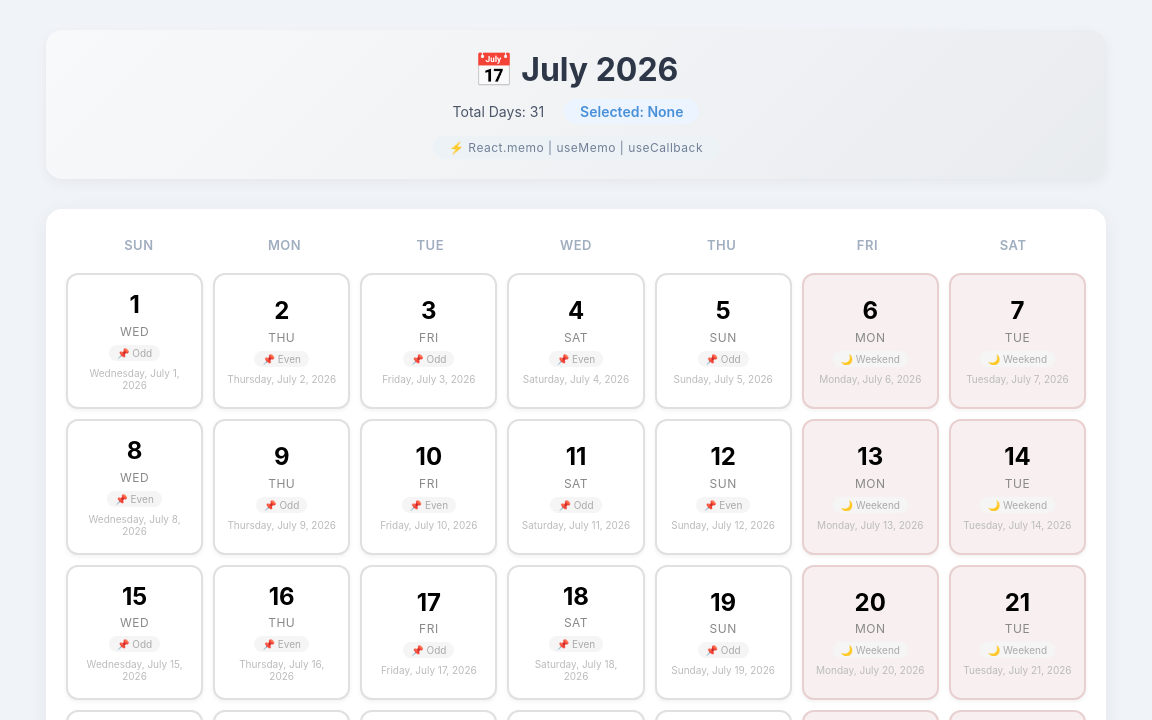
Test: Calendar Component Tests › ✅ Clear button clears selection
The image size is (1152, 720).
# Select a day
Click the button with test id "day-10": (429,487) [360,419,497,555]
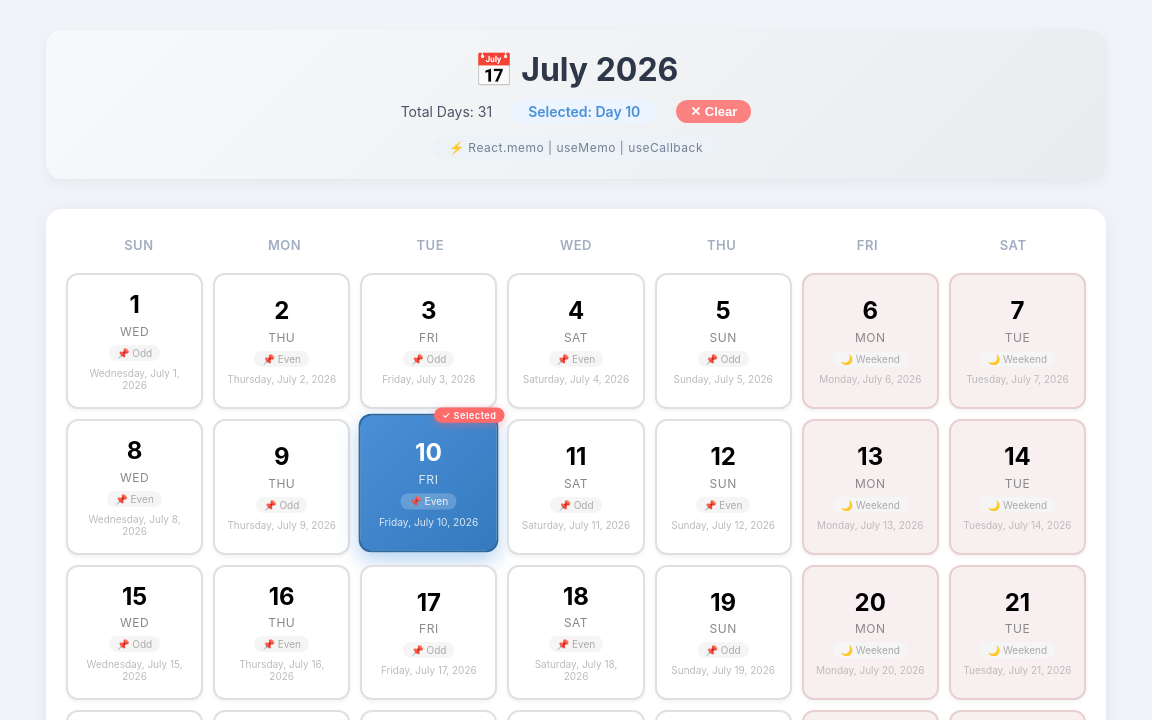
expect the text "Selected: Day 10" is shown: met, box [512,99,656,124]
# Click clear button
Click the button with aria-label "Clear selection": (714,112) [676,100,751,123]
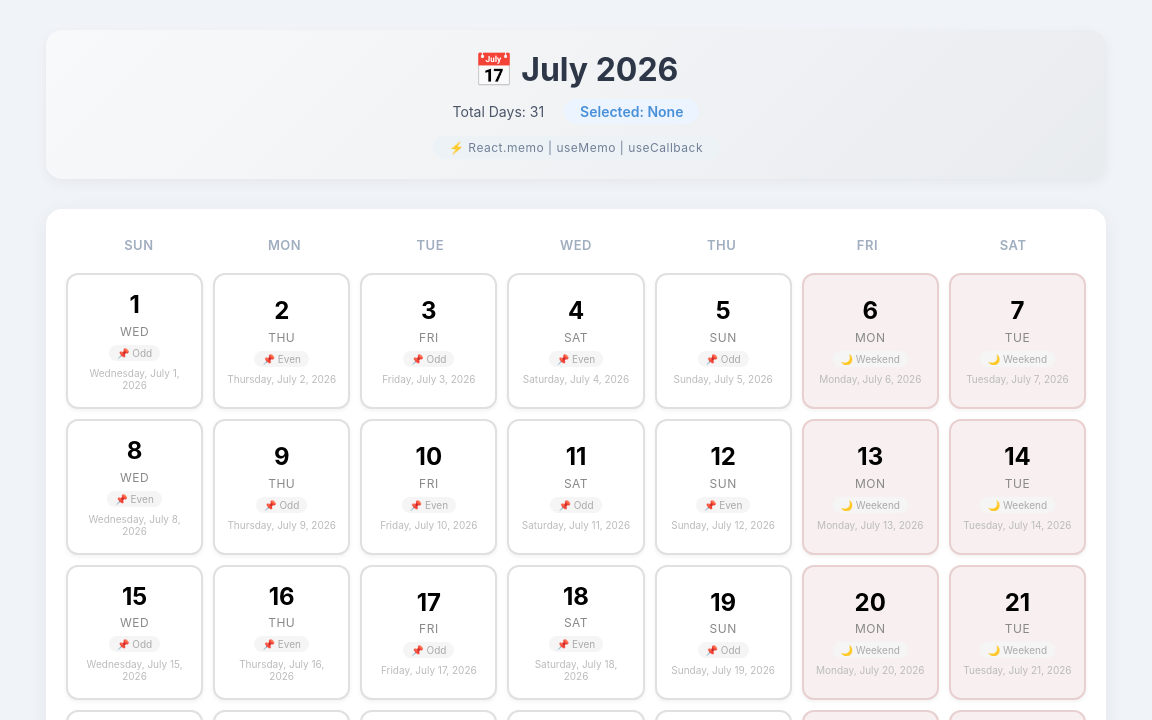
expect the text "Selected: Day 10" is gone: met
